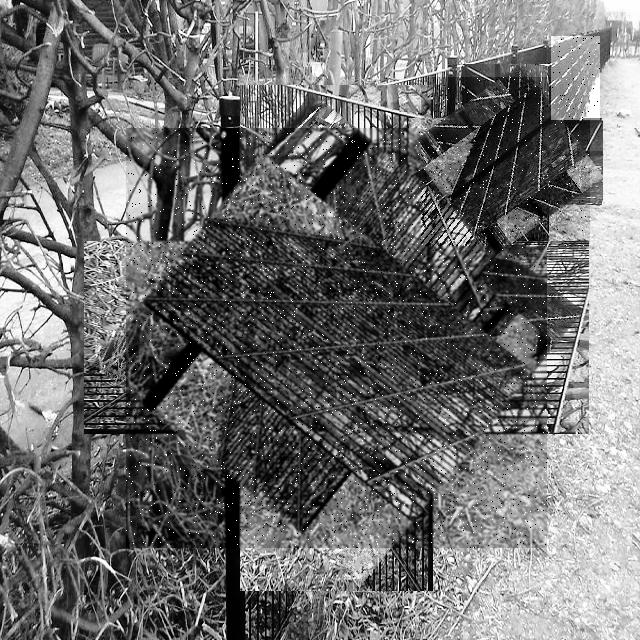fences: (126, 128, 547, 548), (421, 77, 590, 246), (551, 36, 600, 120)
